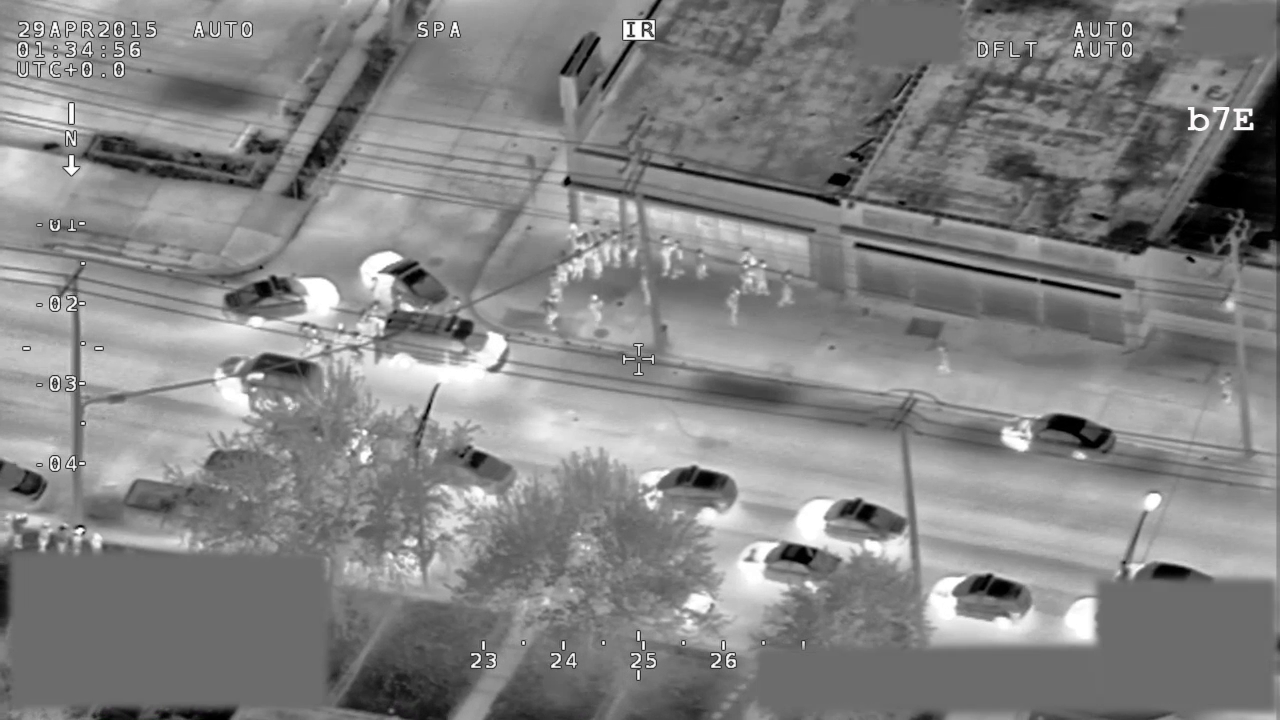vehicle: (127, 478, 269, 554), (380, 310, 513, 378), (736, 536, 859, 597), (221, 269, 346, 328), (793, 495, 911, 557), (997, 407, 1120, 466), (356, 241, 456, 313), (211, 352, 329, 412), (925, 572, 1037, 631), (633, 464, 743, 522), (417, 441, 519, 500), (203, 445, 294, 489), (1110, 559, 1216, 584), (1, 455, 46, 508), (1065, 597, 1098, 646)
